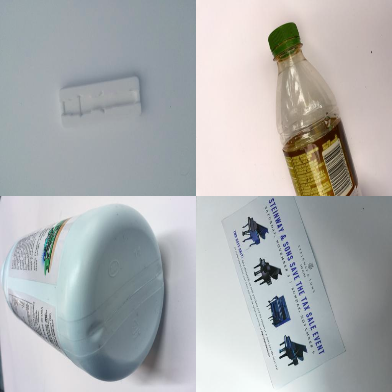paper: (220, 196, 347, 388)
plastic: (1, 203, 166, 383), (266, 21, 364, 197)
trash: (58, 75, 142, 129)
